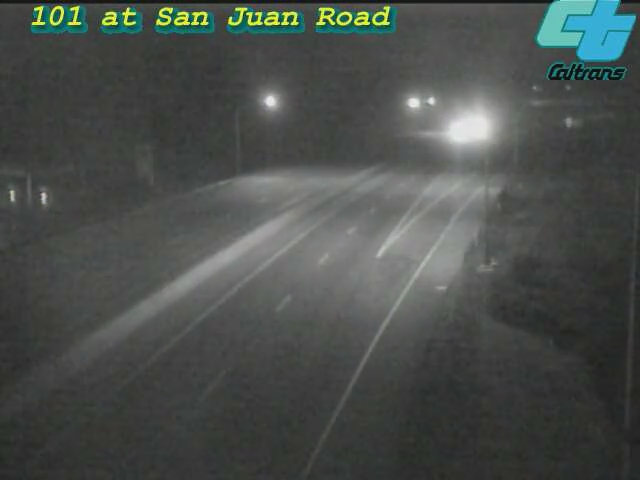vehicle: (545, 97, 595, 147), (432, 106, 482, 156), (450, 104, 500, 154)
